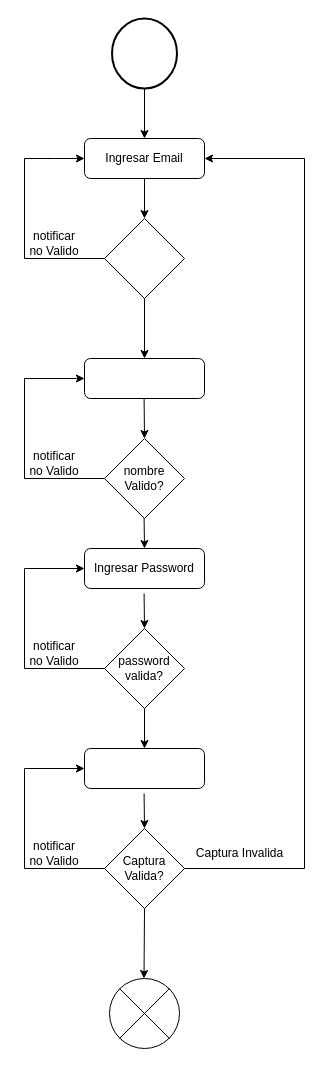
This 330x1066 diagram has some shape labels left out. The centre of each missing label's shape, as x and y in pixels:
"Captura de Rostro" goes at pixel 144 768.
"Email valido?" goes at pixel 144 258.
"Ingresar Nombre" goes at pixel 144 378.
